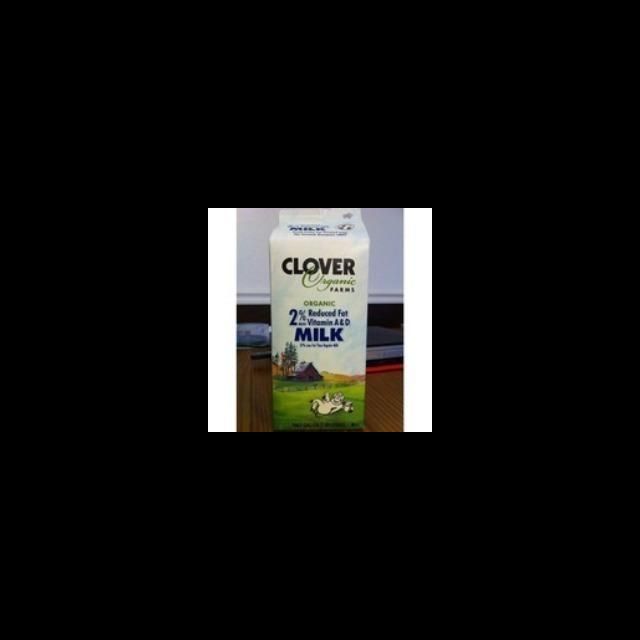paper: (271, 208, 370, 432)
